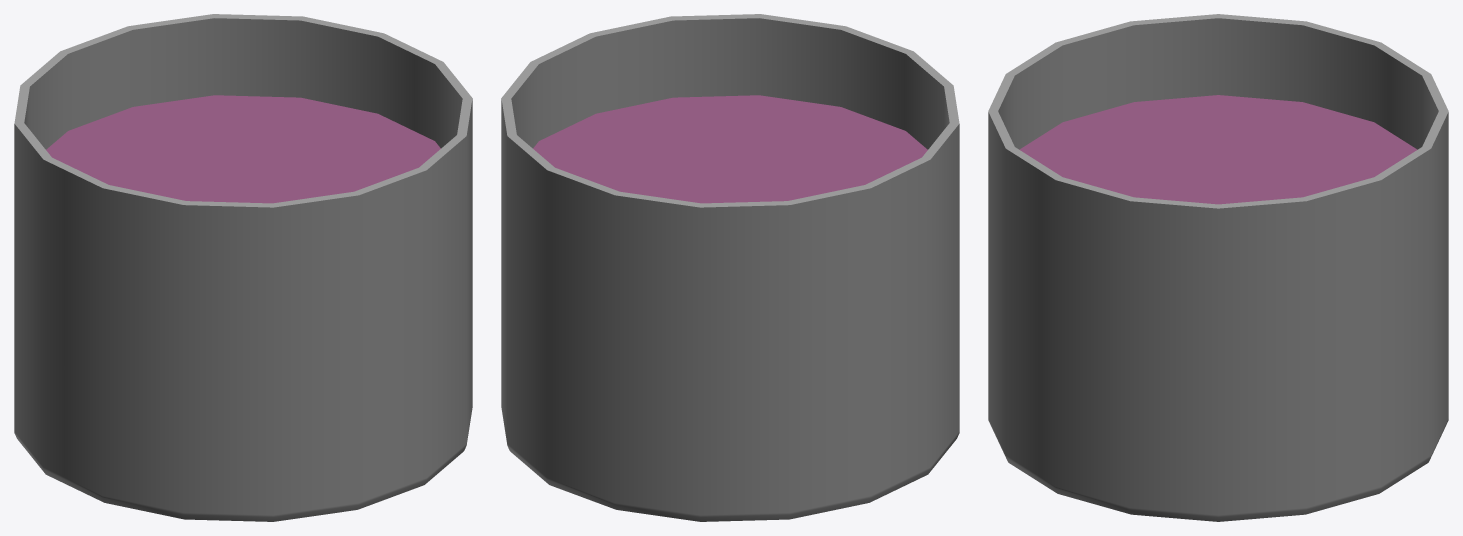
Rendered from PotWithBeet.fbx.
The picture shows the model from 3 angles, left to right: view 1: azimuth 30°, elevation 25°; view 2: azimuth 150°, elevation 25°; view 3: azimuth 270°, elevation 25°; orthographic projection.
Parts seen in each view (by area): view 1: pCylinder5; view 2: pCylinder5; view 3: pCylinder5.
Part boxes in pixels (x1=…): pCylinder5: x1=14, y1=14, x2=472, y2=521; pCylinder5: x1=501, y1=14, x2=959, y2=521; pCylinder5: x1=988, y1=14, x2=1448, y2=521.
Size of the model in its own units: 1.2 by 0.9112 by 1.2.
